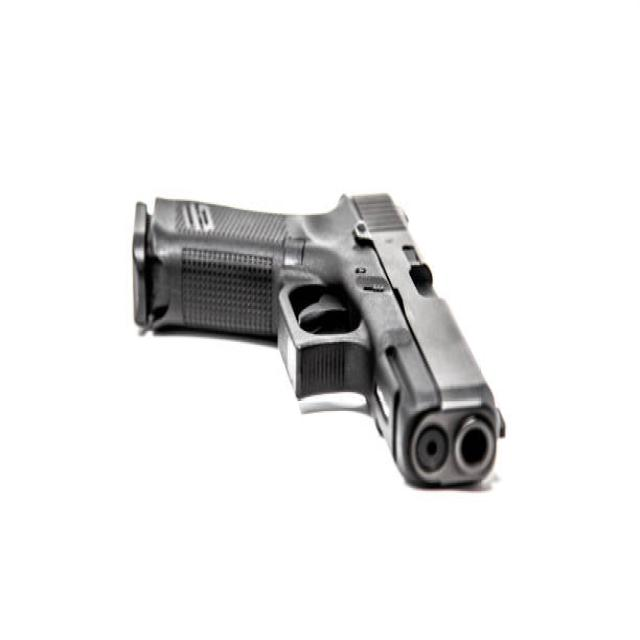pistol: (127, 179, 510, 507)
